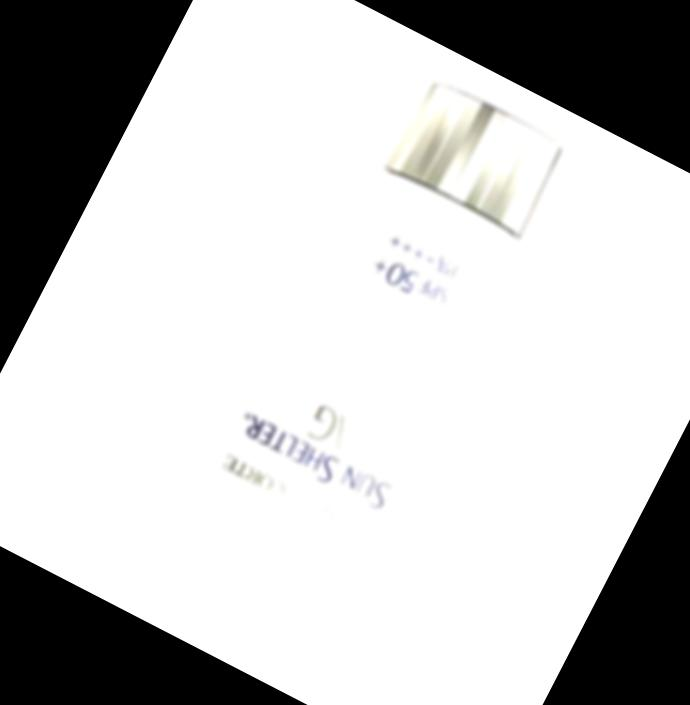cosmetic: (144, 59, 596, 663)
